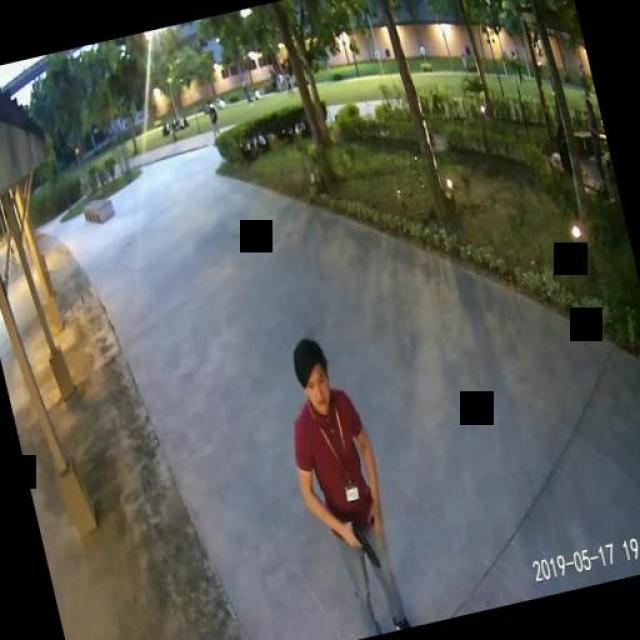gun: (343, 516, 378, 569)
